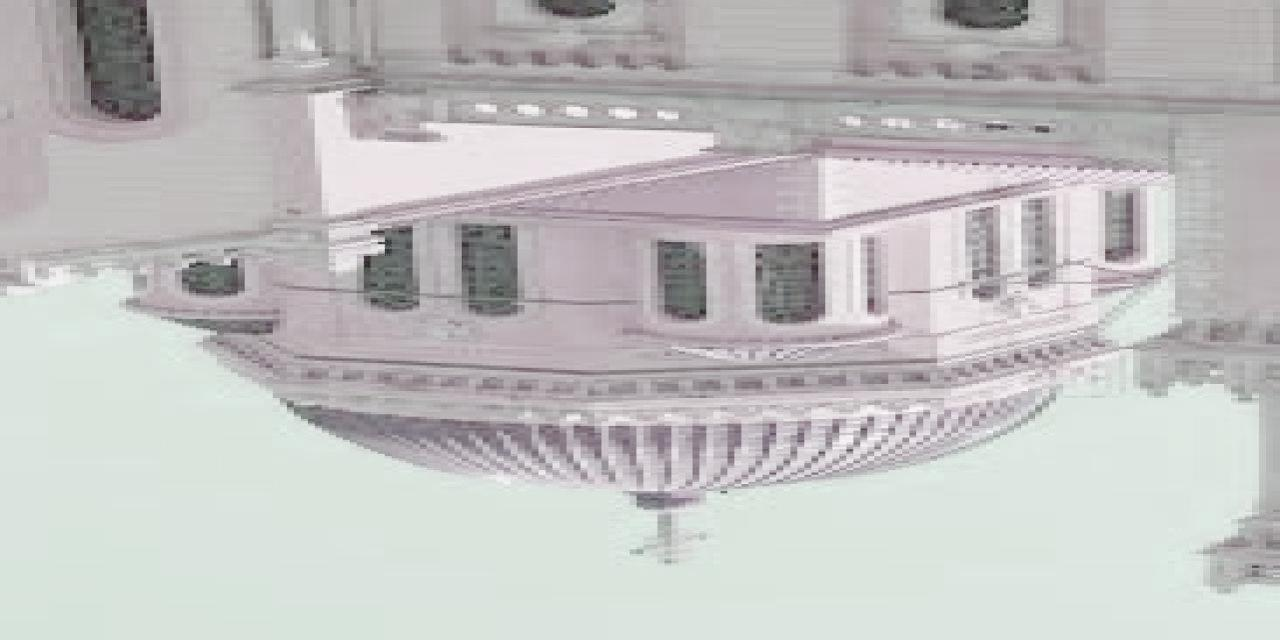Agios Minas: (1, 1, 1280, 597)
